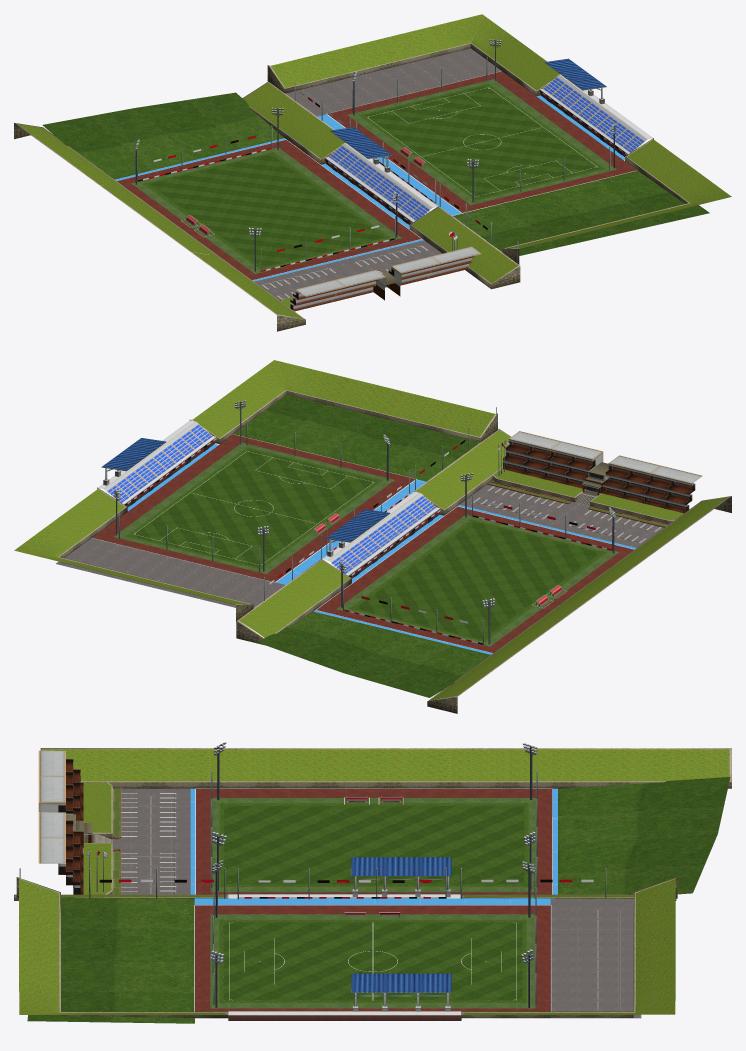
File: st_030_ground_object.fbx
The picture shows the model from 3 angles, top to bottom: view 1: azimuth 30°, elevation 25°; view 2: azimuth 150°, elevation 25°; view 3: azimuth 270°, elevation 25°; orthographic projection. The views are drawn at different scales.
Parts seen in each view (by area): view 1: st_030_ground_object1; view 2: st_030_ground_object1; view 3: st_030_ground_object1.
Boxes of the visible parts, x1,y1,x2,y2 form: st_030_ground_object1: [14, 14, 731, 331]; st_030_ground_object1: [14, 360, 731, 713]; st_030_ground_object1: [14, 742, 731, 1023].
Bounding box in the file's own units: 250 × 34.51 × 263.
